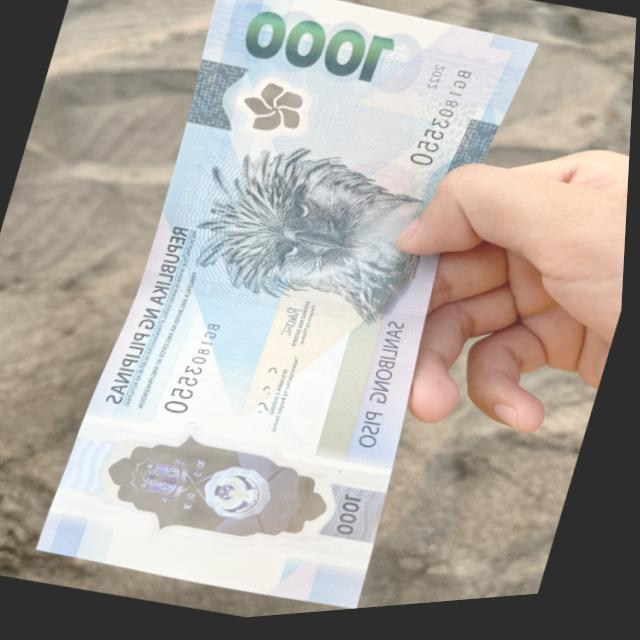clear_window: (65, 390, 408, 592)
eagle: (173, 106, 478, 359)
sampaguita: (209, 48, 335, 167)
